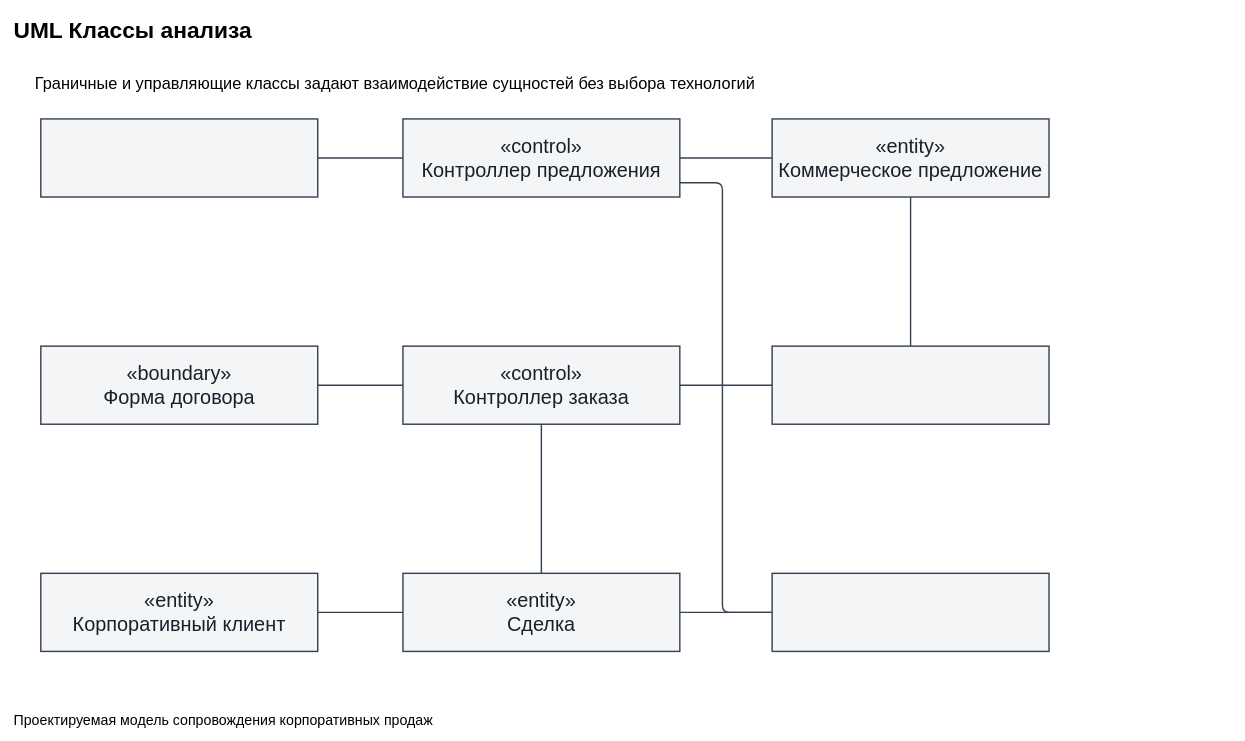
Some shapes in this 1245 by 741 pixel diagram are drawn without their labels. Here are the shapes that lost their labels. From the top down, the centre of each, then its label:
the point at 179,157: «boundary» Форма сделки
the point at 910,385: «entity» Договор
the point at 910,612: «entity» Заказ подключения
